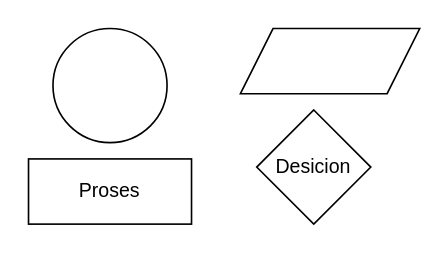
Some shapes in this 448 by 253 pixel diagram are drawn without their labels. Each missing label, with the centre of its shape:
Input / output: the point at 329,60
State awal/Akhir: the point at 109,85
